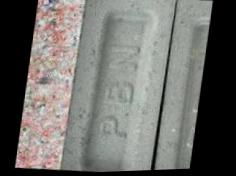brick: (58, 0, 174, 174)
